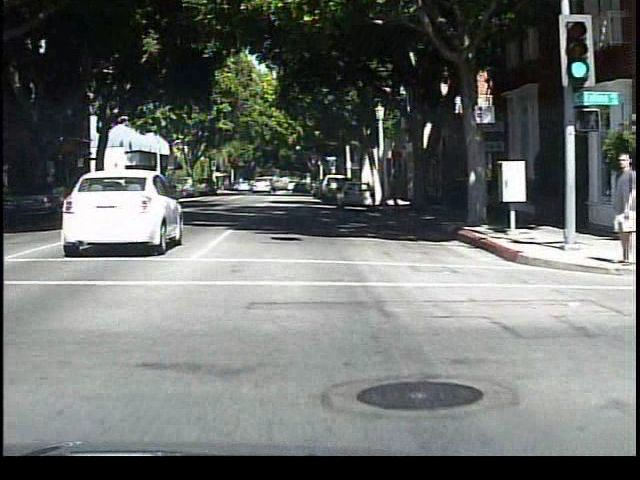person: (601, 147, 633, 269)
